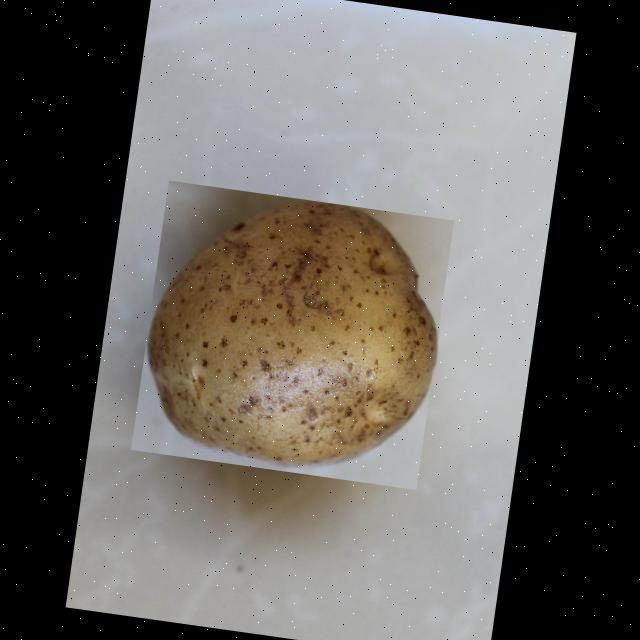Diseased-fungal potato: (130, 180, 453, 490)
